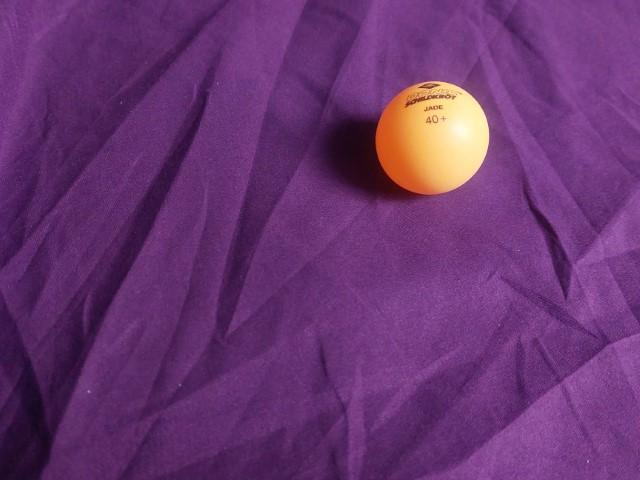oball: (366, 75, 495, 204)
